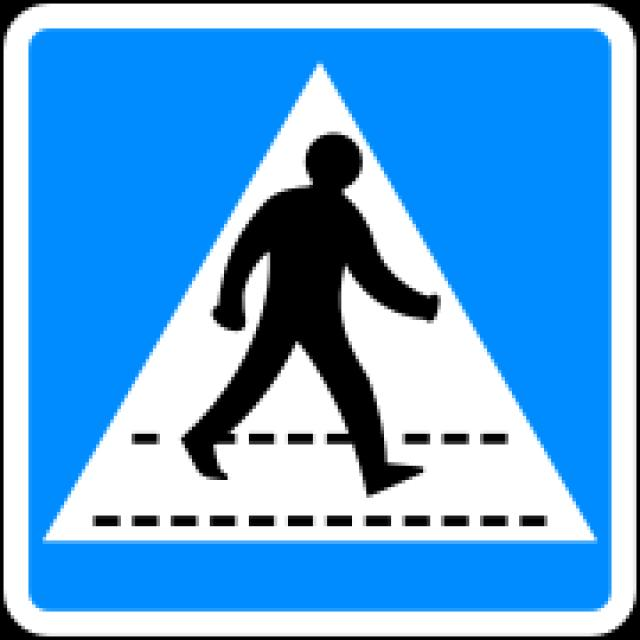Pedestrian crosswalk: (33, 40, 608, 562)
